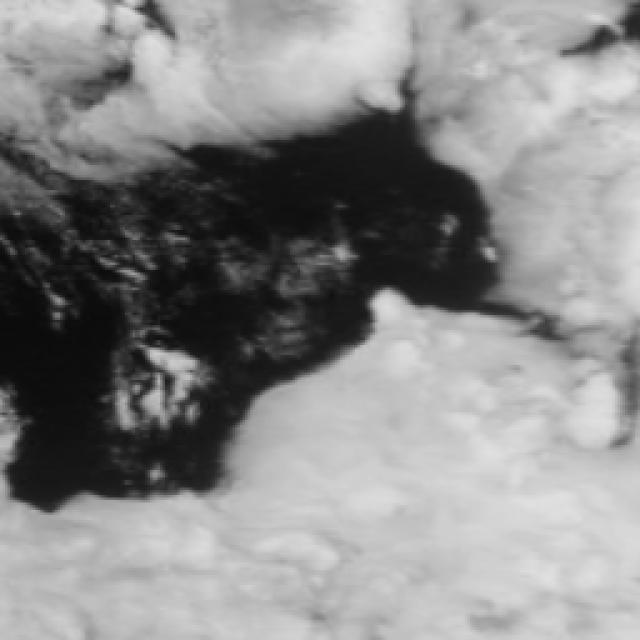CB: (344, 434, 521, 639), (462, 462, 640, 640), (231, 452, 384, 640), (2, 510, 220, 640), (514, 87, 640, 290), (385, 324, 516, 513), (202, 0, 372, 110), (276, 393, 434, 501)
